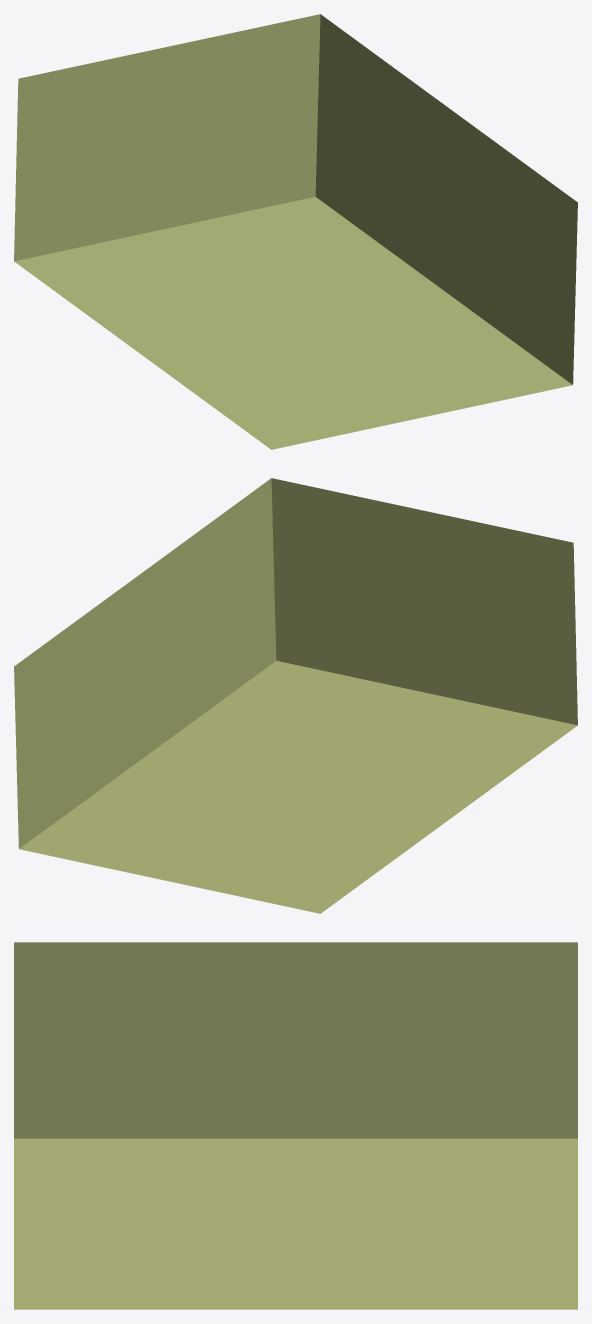
3 renders of one model, top to bottom at view 1: azimuth 30°, elevation 25°; view 2: azimuth 150°, elevation 25°; view 3: azimuth 270°, elevation 25°, orthographic. The views are drawn at different scales.
Visible parts, largest first — view 1: 0_1_3_2_2_1_0_2_1_2; view 2: 0_1_3_2_2_1_0_2_1_2; view 3: 0_1_3_2_2_1_0_2_1_2.
Part boxes in pixels (<box>): 0_1_3_2_2_1_0_2_1_2: <box>14,14,577,449</box>; 0_1_3_2_2_1_0_2_1_2: <box>14,478,577,913</box>; 0_1_3_2_2_1_0_2_1_2: <box>14,942,577,1309</box>.
Bounding box in the file's own units: 6.18 × 3.67 × 9.
